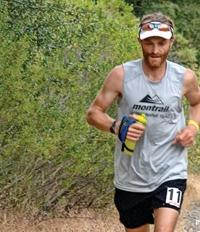person: (87, 13, 200, 232)
